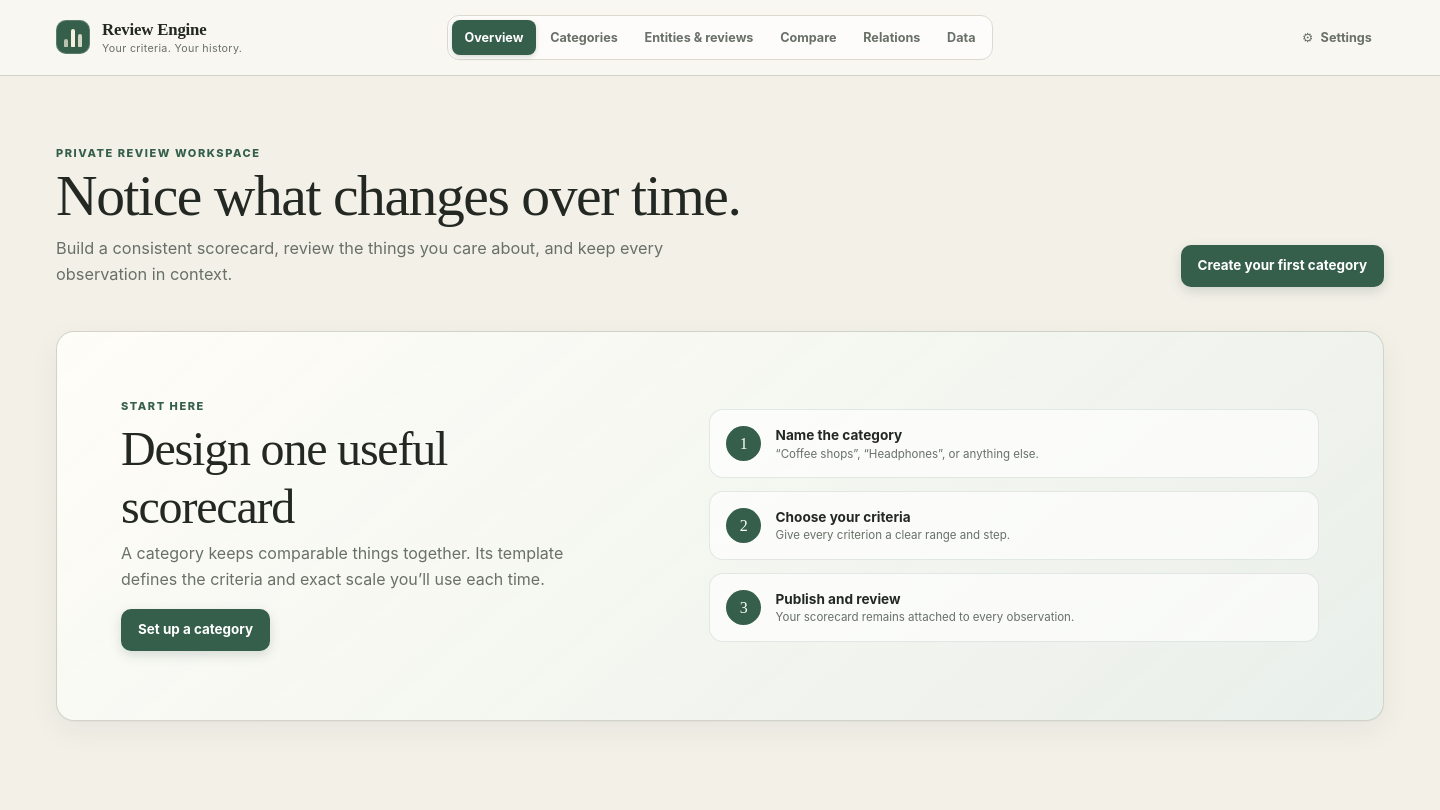
Test: reference UI shell › navigates between SPA workspaces without a router dependency
This screenshot has width=1440, height=810.
Check: the heading "Design one useful scorecard" is shown, box top-left (121, 422), bottom-right (447, 532)
Click the link "Categories" at {"x": 584, "y": 38}, box top-left (550, 30), bottom-right (618, 45)
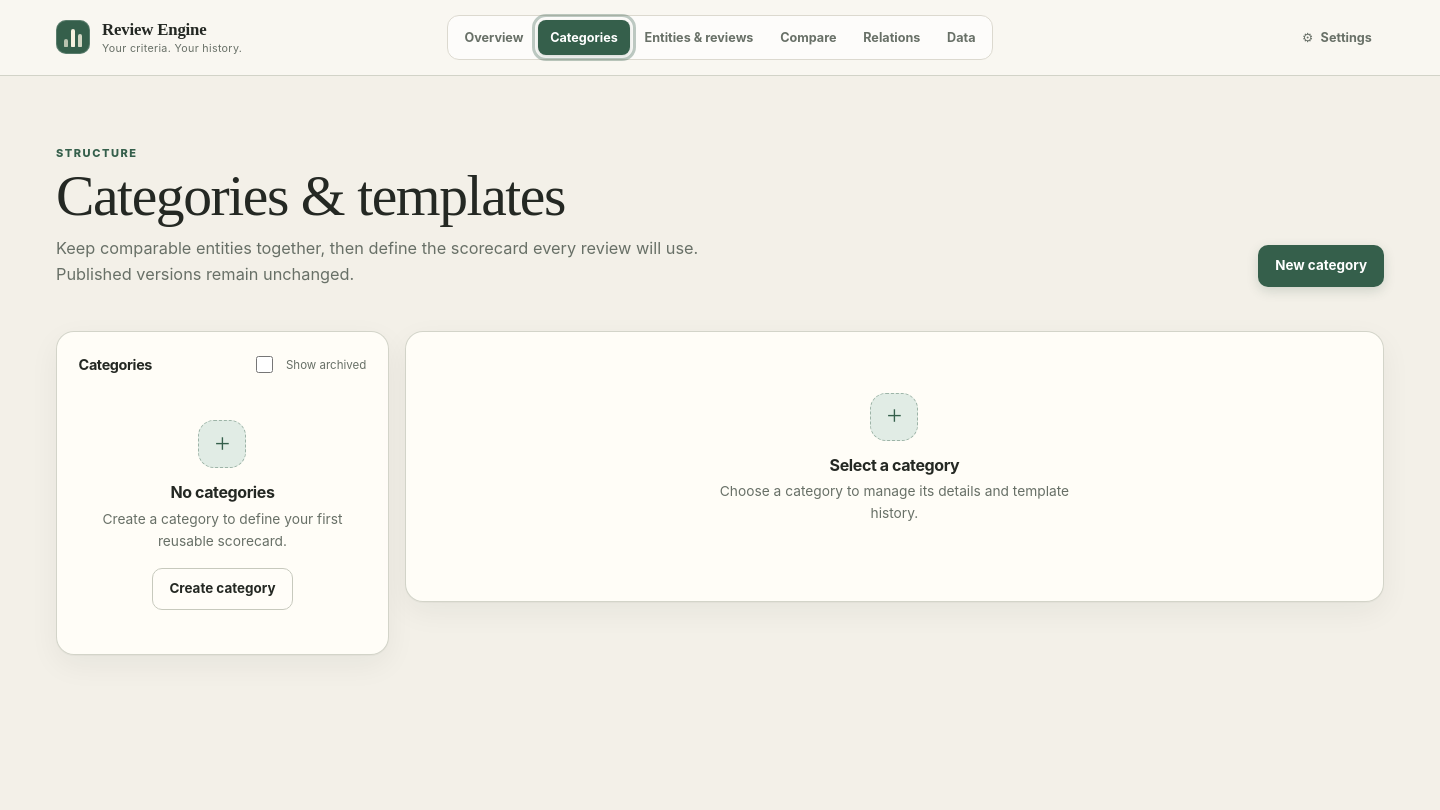
Check: the heading "Categories & templates" is shown, box top-left (56, 164), bottom-right (565, 227)
